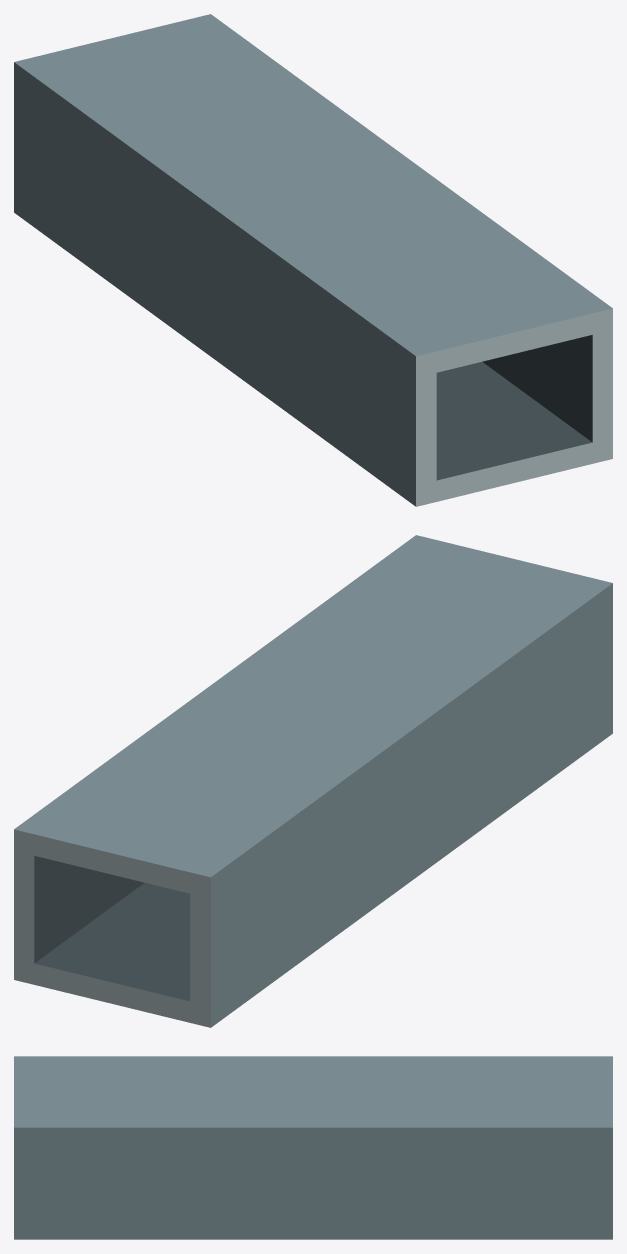
File: Steel_Box_Tube.glb
3 renders of one model, top to bottom at view 1: azimuth 30°, elevation 25°; view 2: azimuth 150°, elevation 25°; view 3: azimuth 270°, elevation 25°, orthographic. The views are drawn at different scales.
Parts seen in each view (by area): view 1: Steel_Box_Tube; view 2: Steel_Box_Tube; view 3: Steel_Box_Tube.
Part boxes in pixels (x1=…): Steel_Box_Tube: x1=14, y1=14, x2=612, y2=506; Steel_Box_Tube: x1=14, y1=535, x2=612, y2=1027; Steel_Box_Tube: x1=14, y1=1056, x2=612, y2=1239.
Bounding box in the file's own units: 0.26 × 0.19 × 0.92.
